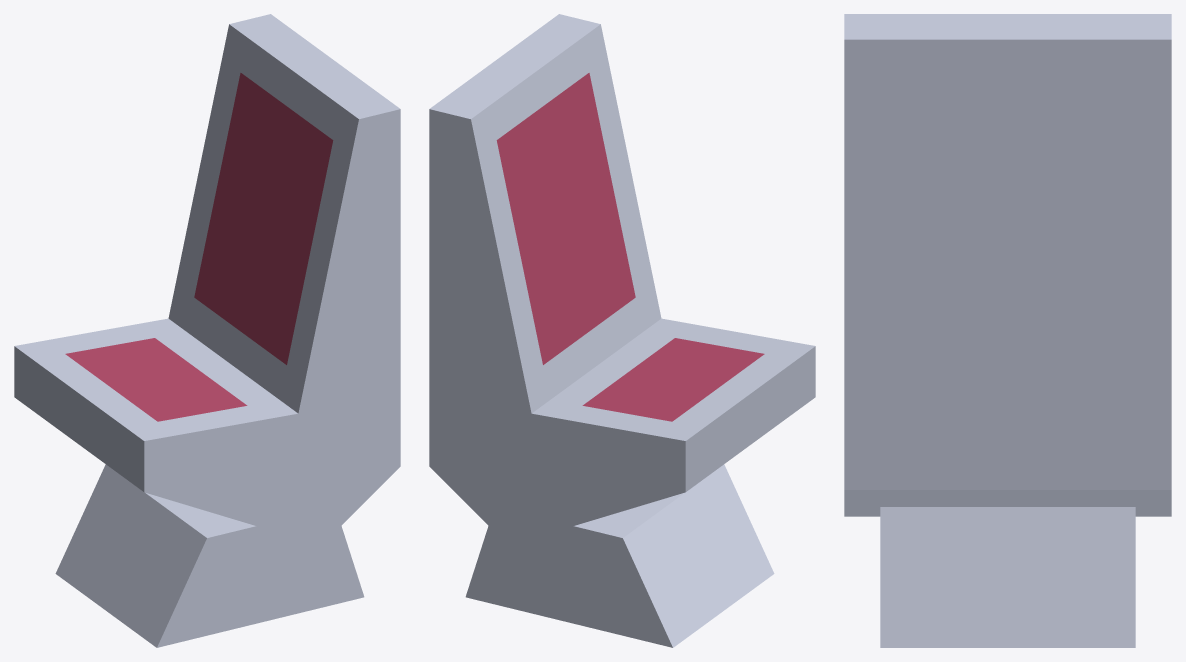
3 renders of one model, left to right at view 1: azimuth 30°, elevation 25°; view 2: azimuth 150°, elevation 25°; view 3: azimuth 270°, elevation 25°, orthographic. The views are drawn at different scales.
Parts seen in each view (by area): view 1: object_057; view 2: object_057; view 3: object_057.
Part boxes in pixels (x1=…): object_057: x1=14, y1=14, x2=400, y2=647; object_057: x1=429, y1=14, x2=815, y2=647; object_057: x1=844, y1=14, x2=1171, y2=647.
Size of the model in its own units: 2.91 by 5.35 by 2.55.
